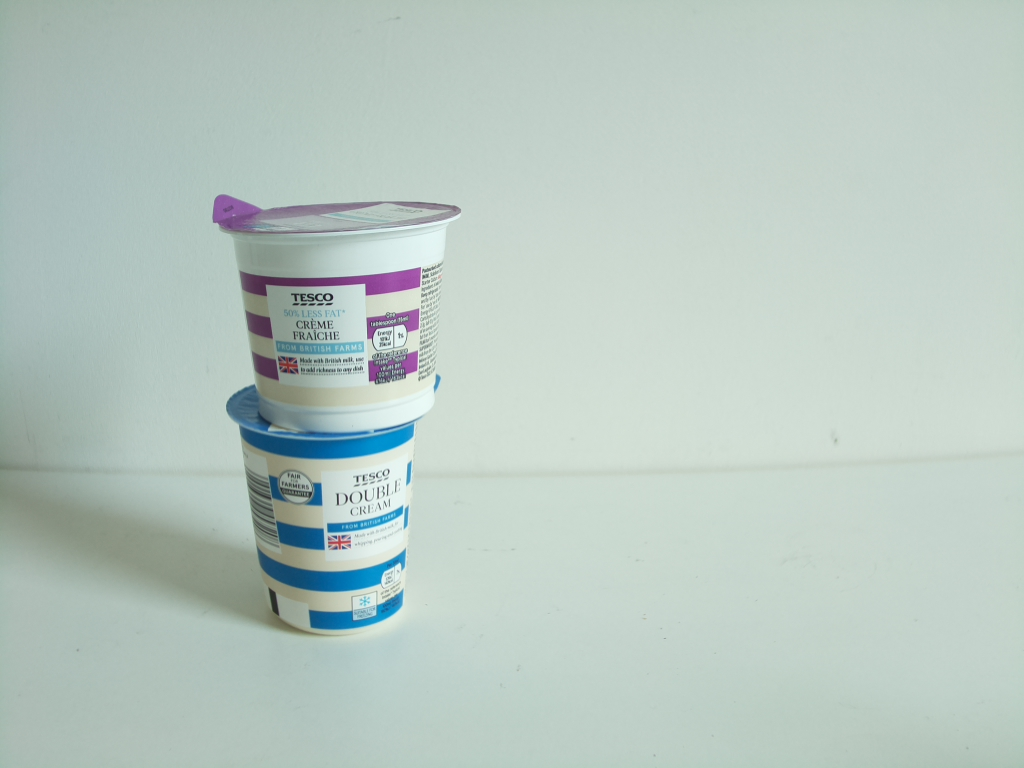cream: (210, 189, 480, 431), (226, 382, 440, 638)
